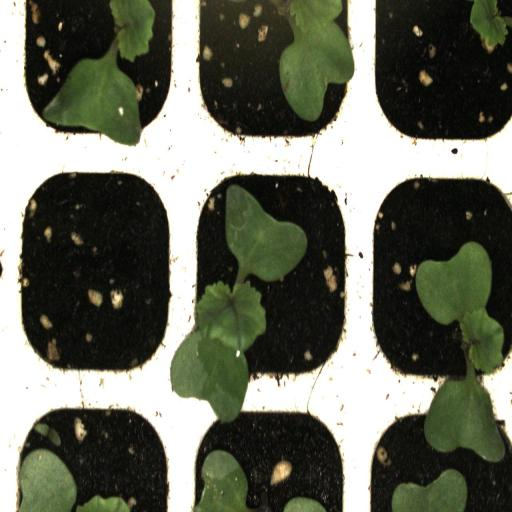Folha: (19, 448, 131, 512), (192, 449, 248, 512), (391, 468, 468, 512)
Germinacao: (178, 157, 360, 393), (359, 155, 512, 399), (183, 0, 361, 157), (6, 0, 184, 154)
